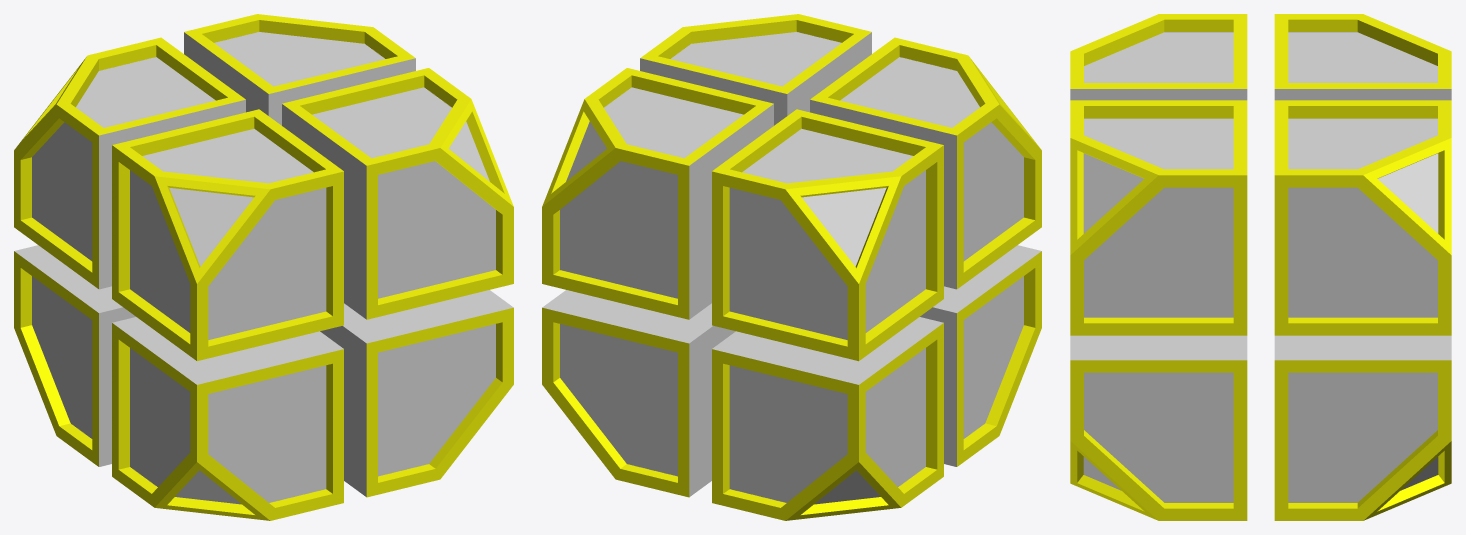
File: CubeGate.fbx
3 views of the same model, side by side, from view 1: azimuth 30°, elevation 25°; view 2: azimuth 150°, elevation 25°; view 3: azimuth 270°, elevation 25° (orthographic). The views are drawn at different scales.
Visible parts, largest first — view 1: pCube9; view 2: pCube9; view 3: pCube9.
Boxes of the visible parts, x1,y1,x2,y2 form: pCube9: [14, 14, 513, 520]; pCube9: [542, 14, 1041, 520]; pCube9: [1070, 14, 1451, 520].
Size of the model in its own units: 2.8 by 2.8 by 2.8.
